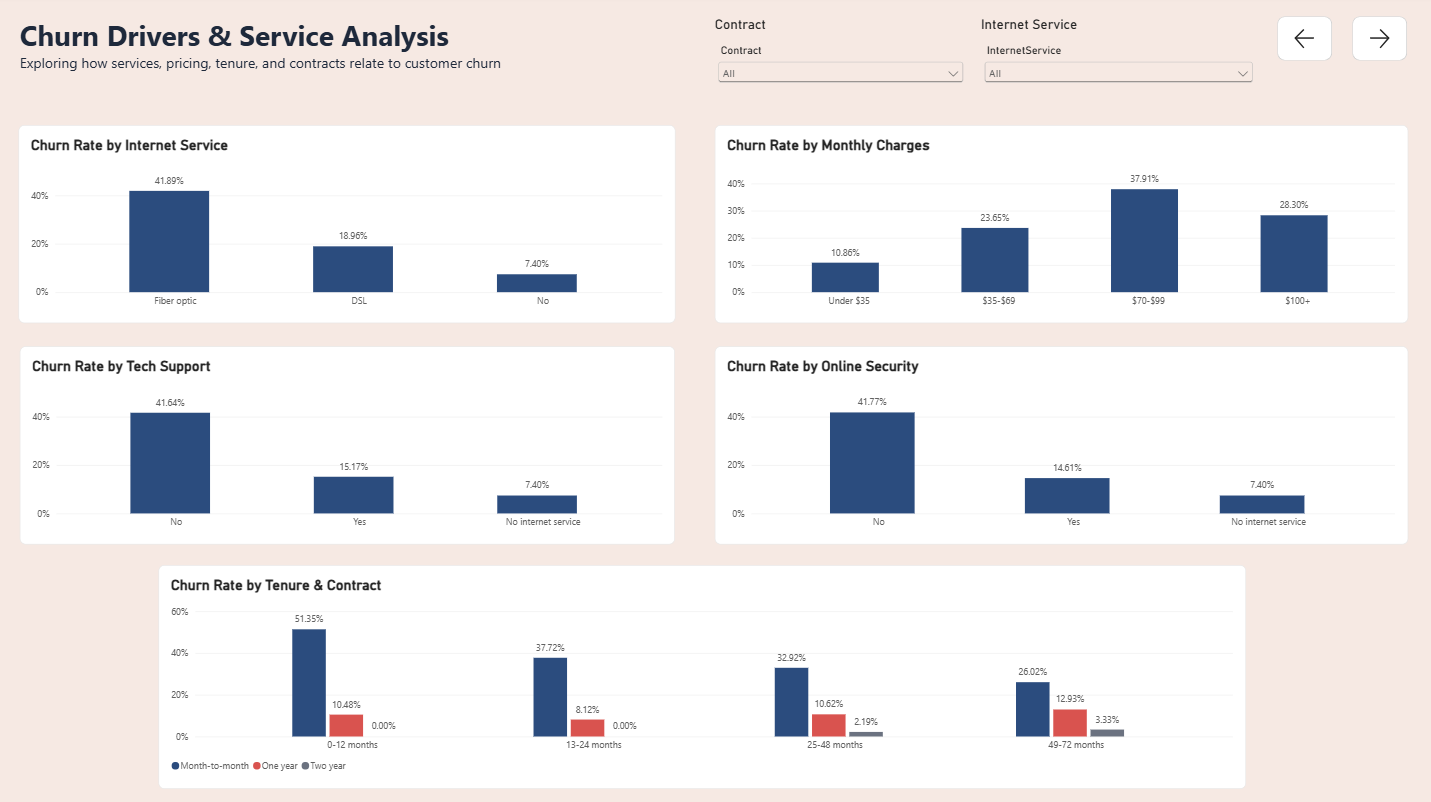

What the dashboard file says about the page in this screenshot:
{"tool":"powerbi","page":{"name":"Churn Drivers","canvas":[1920,1080],"ordinal":1},"visuals":[{"type":"clusteredColumnChart","title":"Churn Rate by Internet Service","fields":{"Category":["customer_churn.InternetService"],"Y":["customer_churn.Churn Rate"]},"box":[29.7,174.4,877.3,265.1],"z":0},{"type":"clusteredColumnChart","title":"Churn Rate by Monthly Charges","fields":{"Category":["customer_churn.Monthly Charge Group"],"Y":["customer_churn.Churn Rate"]},"box":[959.3,174.4,926.2,265.1],"z":1000},{"type":"clusteredColumnChart","title":"Churn Rate by Tech Support","fields":{"Category":["customer_churn.TechSupport"],"Y":["customer_churn.Churn Rate"]},"box":[31.4,469.2,875.6,265.1],"z":2000},{"type":"clusteredColumnChart","title":"Churn Rate by Online Security","fields":{"Category":["customer_churn.OnlineSecurity"],"Y":["customer_churn.Churn Rate"]},"box":[959.3,469.2,926.2,265.1],"z":3000},{"type":"clusteredColumnChart","title":"Churn Rate by Tenure & Contract","fields":{"Category":["customer_churn.Tenure Group"],"Series":["customer_churn.Contract"],"Y":["customer_churn.Churn Rate"]},"box":[216.3,762.2,1452.7,298.9],"z":4000},{"type":"textbox","box":[31.4,27.9,875.6,118.6],"z":5000},{"type":"slicer","title":"Contract","fields":{"Values":["customer_churn.Contract"]},"box":[959.3,27.9,336.6,118.6],"z":6000},{"type":"slicer","title":"Internet Service","fields":{"Values":["customer_churn.InternetService"]},"box":[1315.1,27.9,368,118.6],"z":7000},{"type":"actionButton","box":[1812.2,27.9,73.3,59.3],"z":8000},{"type":"actionButton","box":[1711.1,27.9,73.3,59.3],"z":8001}]}

Visuals, with their boxes in screenshot pixels (x1, y1, x2, y2), scaled from the page's 1920x1080 canvas onto the 1431x802 screenshot:
"Churn Rate by Internet Service" clusteredColumnChart: bbox=[22, 130, 676, 326]
"Churn Rate by Monthly Charges" clusteredColumnChart: bbox=[715, 130, 1405, 326]
"Churn Rate by Tech Support" clusteredColumnChart: bbox=[23, 348, 676, 545]
"Churn Rate by Online Security" clusteredColumnChart: bbox=[715, 348, 1405, 545]
"Churn Rate by Tenure & Contract" clusteredColumnChart: bbox=[161, 566, 1244, 788]
textbox: bbox=[23, 21, 676, 109]
"Contract" slicer: bbox=[715, 21, 966, 109]
"Internet Service" slicer: bbox=[980, 21, 1254, 109]
actionButton: bbox=[1351, 21, 1405, 65]
actionButton: bbox=[1275, 21, 1330, 65]
